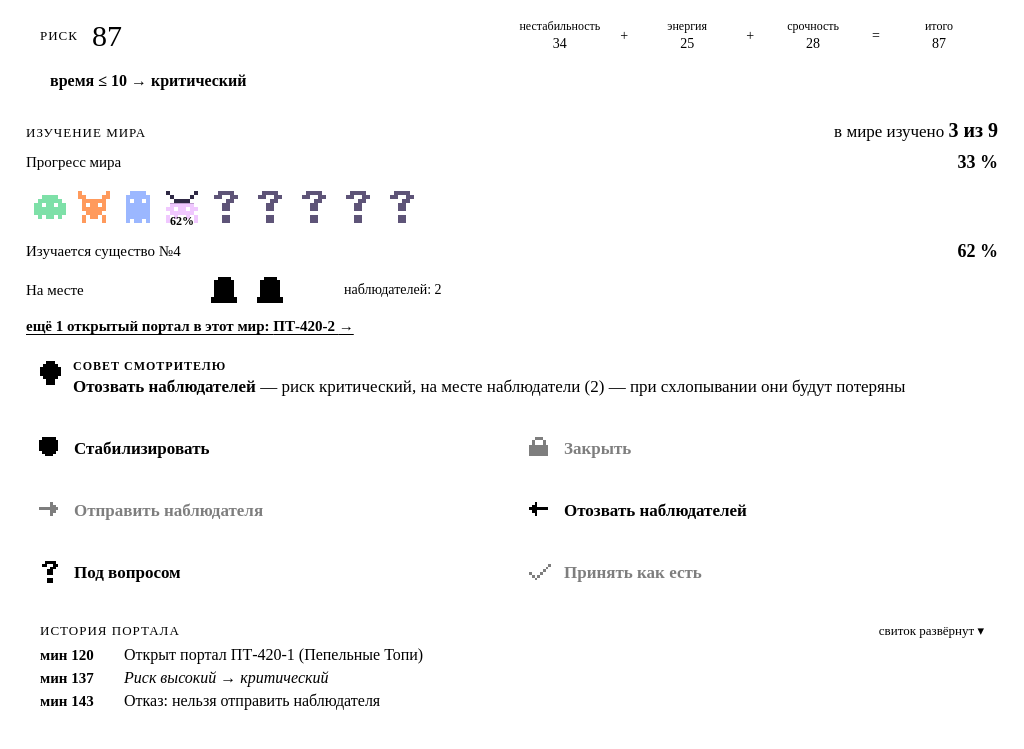
it: PortalCard: история портала › свиток сворачивается и разворачивается
(page scrolled)
Click the button with aria-label "свиток истории": [931, 631] box [879,623,984,639]
(page scrolled)
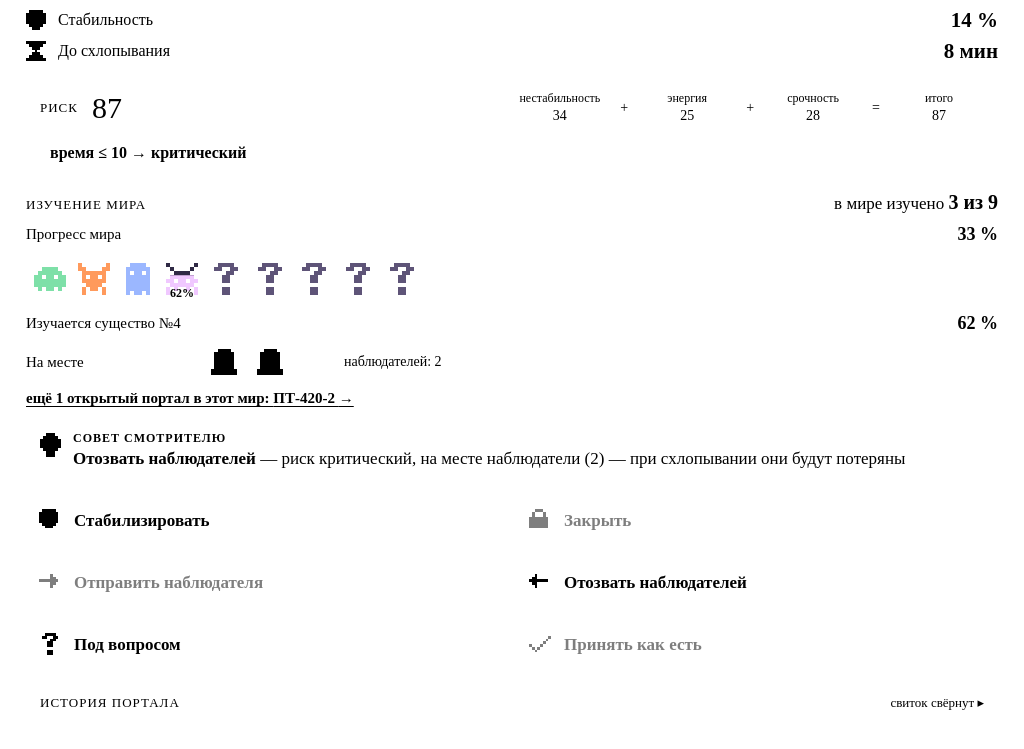
Now the button with aria-label "свиток истории" is collapsed
Now the button with aria-label "свиток истории" reads "свиток свёрнут ▸"
Now the text "мин 120" is gone
Click the button with aria-label "свиток истории": [937, 703] box [890,695,984,711]
(page scrolled)
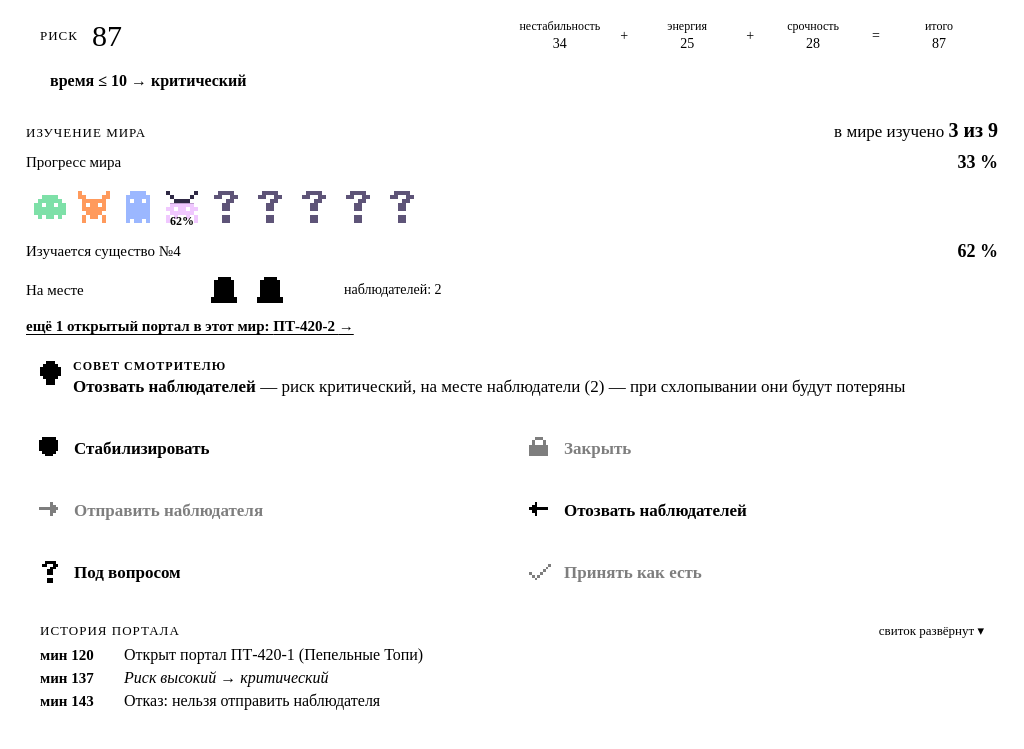
Now the text "мин 120" is shown, box [40,647,94,663]
